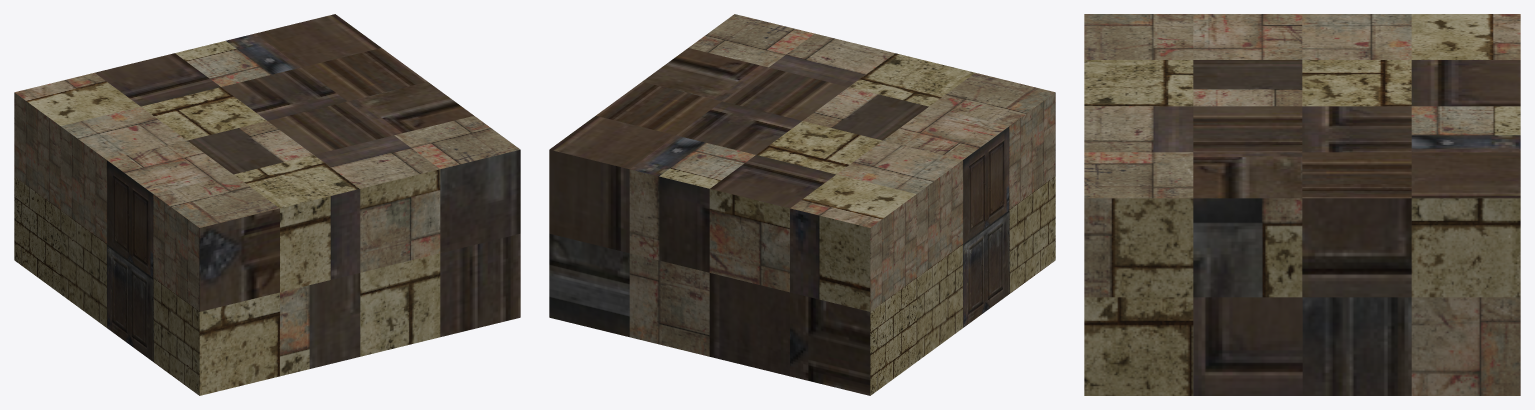
File: Building.fbx
3 views of the same model, side by side, from view 1: azimuth 30°, elevation 25°; view 2: azimuth 150°, elevation 25°; view 3: azimuth 270°, elevation 25° (orthographic). The views are drawn at different scales.
Parts seen in each view (by area): view 1: Cube; view 2: Cube; view 3: Cube.
Boxes of the visible parts, box(x1,y1,x2,y2) form: Cube: box(14, 14, 520, 395); Cube: box(549, 14, 1055, 395); Cube: box(1084, 14, 1520, 395).
Size of the model in its own units: 400 by 200 by 400.
